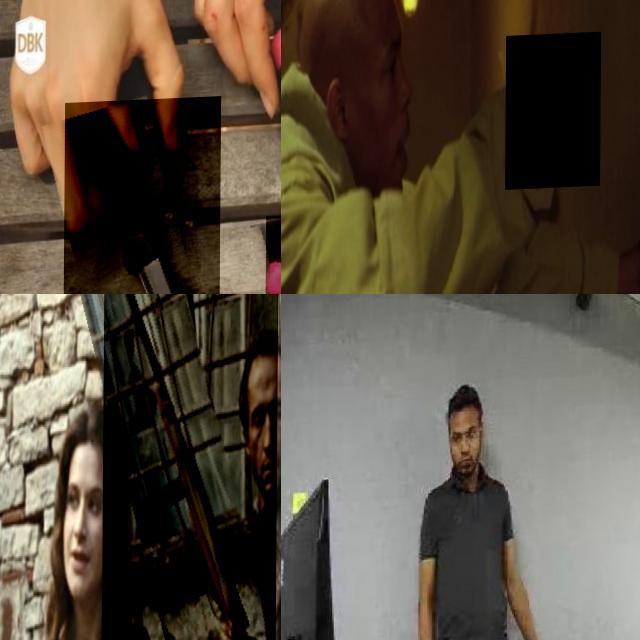-: (63, 97, 221, 294)
gun-knife-thesis - v11 Yolov5 augmented: (101, 294, 278, 640), (506, 36, 602, 192)
